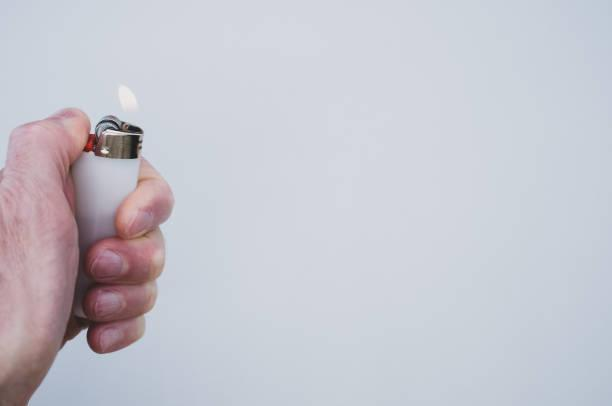Fire: (118, 84, 142, 121)
